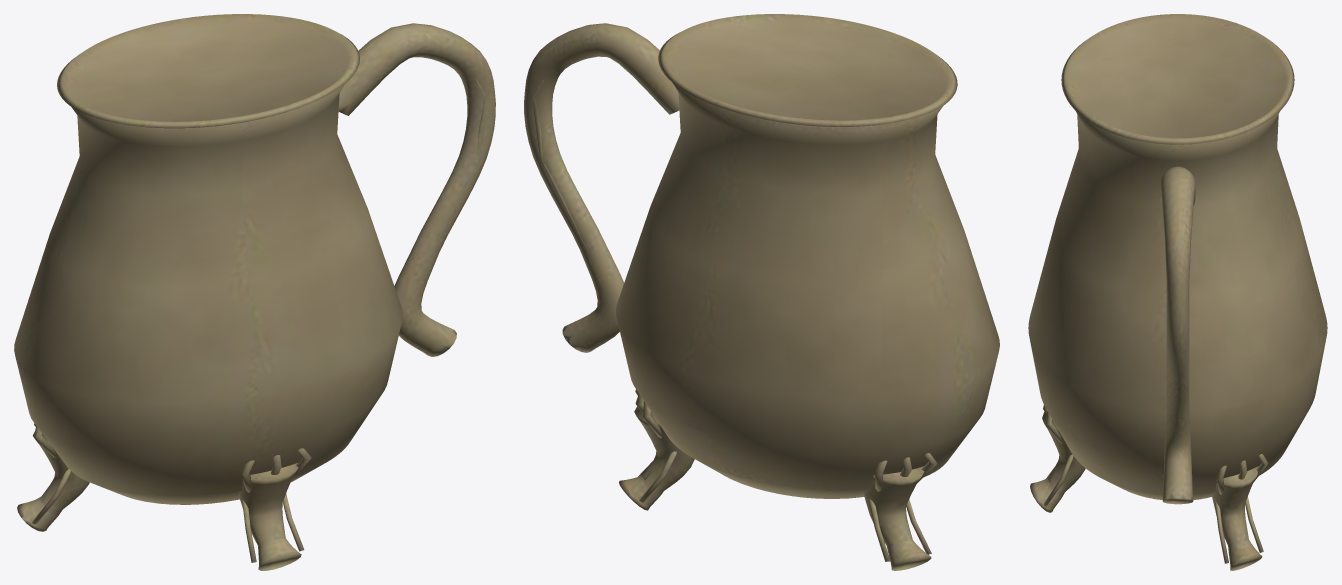
3 views of the same model, side by side, from view 1: azimuth 30°, elevation 25°; view 2: azimuth 150°, elevation 25°; view 3: azimuth 270°, elevation 25° (orthographic). The views are drawn at different scales.
Parts seen in each view (by area): view 1: body; view 2: body; view 3: body.
Part boxes in pixels (x1,y1,x2,y2): body: (14,14,495,570); body: (524,14,999,570); body: (1028,14,1327,570).
Bounding box in the file's own units: 0.1975 × 0.1845 × 0.1155.
1 material, 1 textured.
